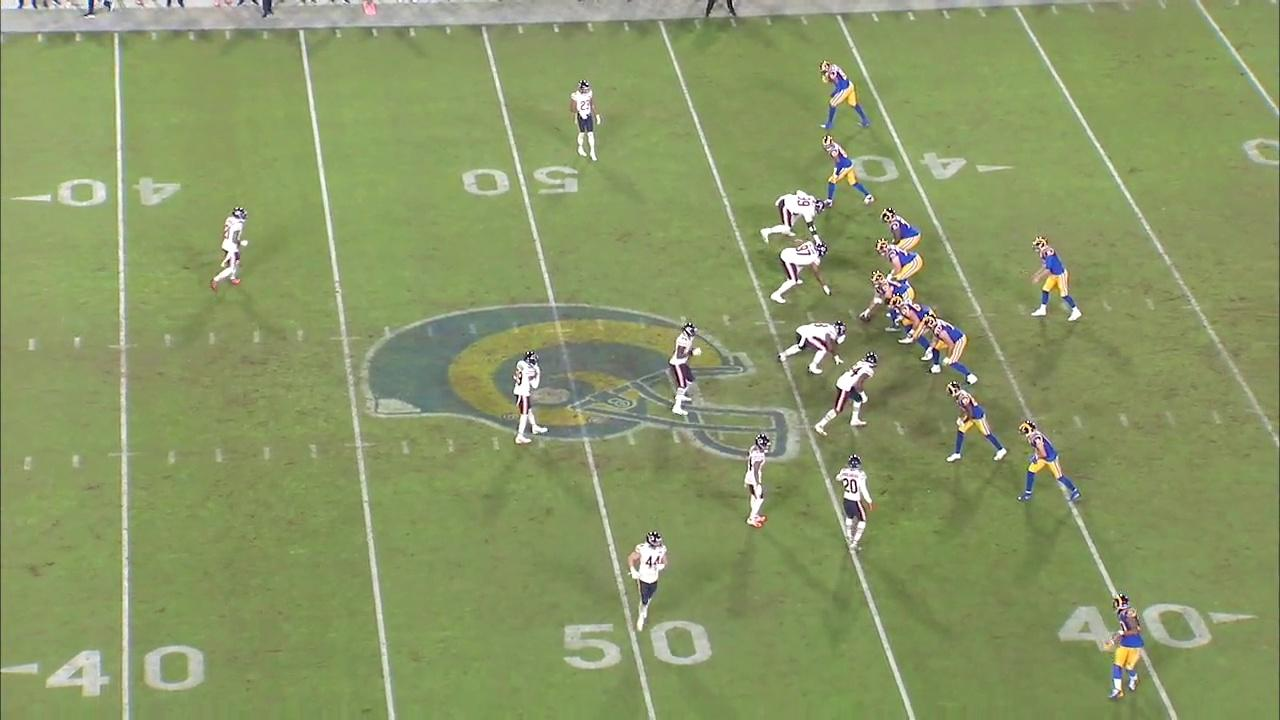player: (1013, 416, 1083, 508), (813, 349, 878, 436), (945, 380, 1007, 463), (624, 528, 670, 635), (208, 196, 258, 292), (820, 132, 878, 211), (1031, 235, 1081, 323), (773, 319, 850, 376), (768, 239, 833, 306), (813, 62, 876, 129), (665, 319, 705, 423), (1107, 592, 1143, 703), (567, 77, 610, 169), (921, 315, 976, 385), (836, 454, 873, 558), (754, 192, 829, 242), (741, 430, 776, 533), (512, 347, 545, 453), (859, 271, 920, 317), (891, 295, 931, 356), (871, 236, 924, 280), (878, 202, 925, 249)
